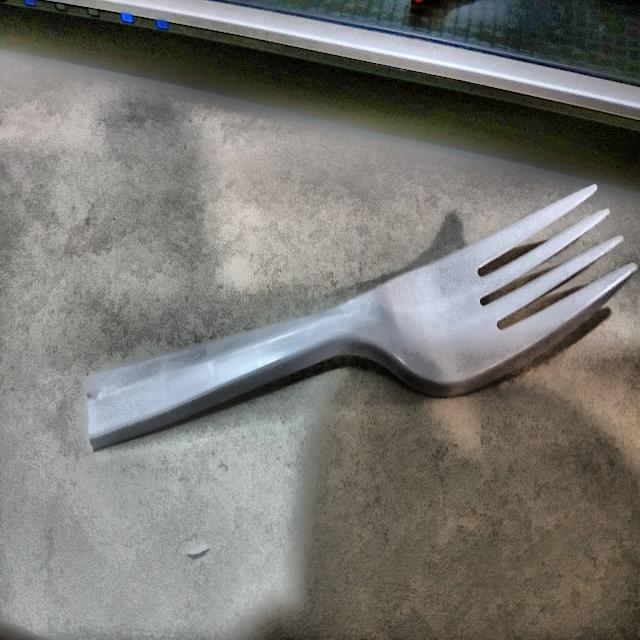plastic utensil: (84, 174, 632, 457)
